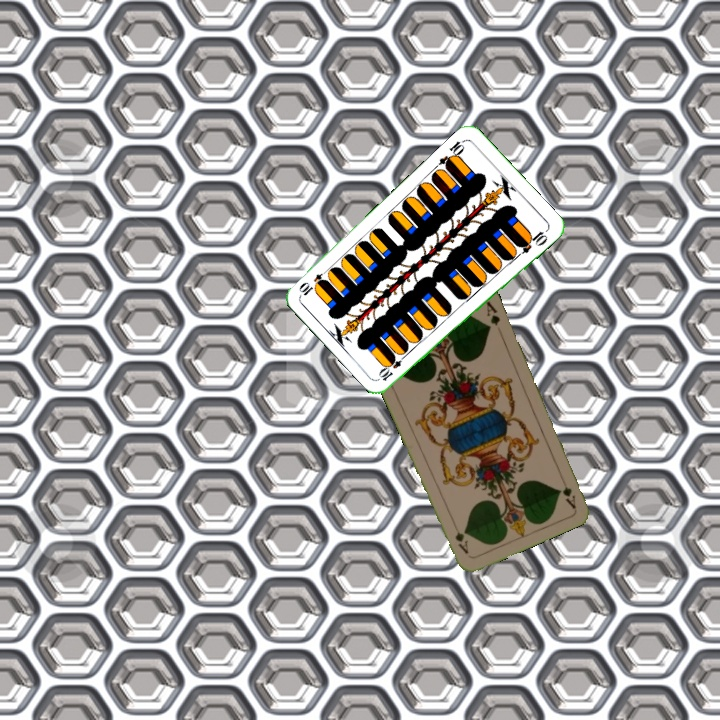E10: (376, 350, 410, 384), (434, 136, 467, 171)
GA: (556, 472, 578, 511)
